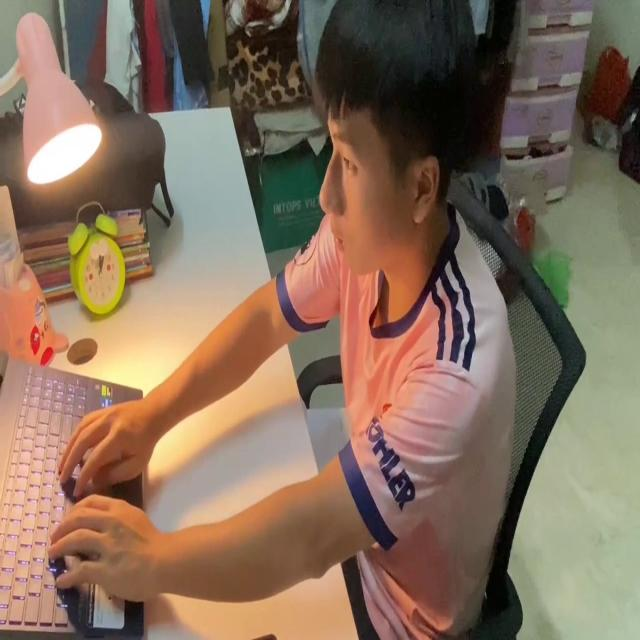book: (297, 392, 358, 483)
laptop: (0, 344, 148, 640)
student: (49, 0, 520, 640)
